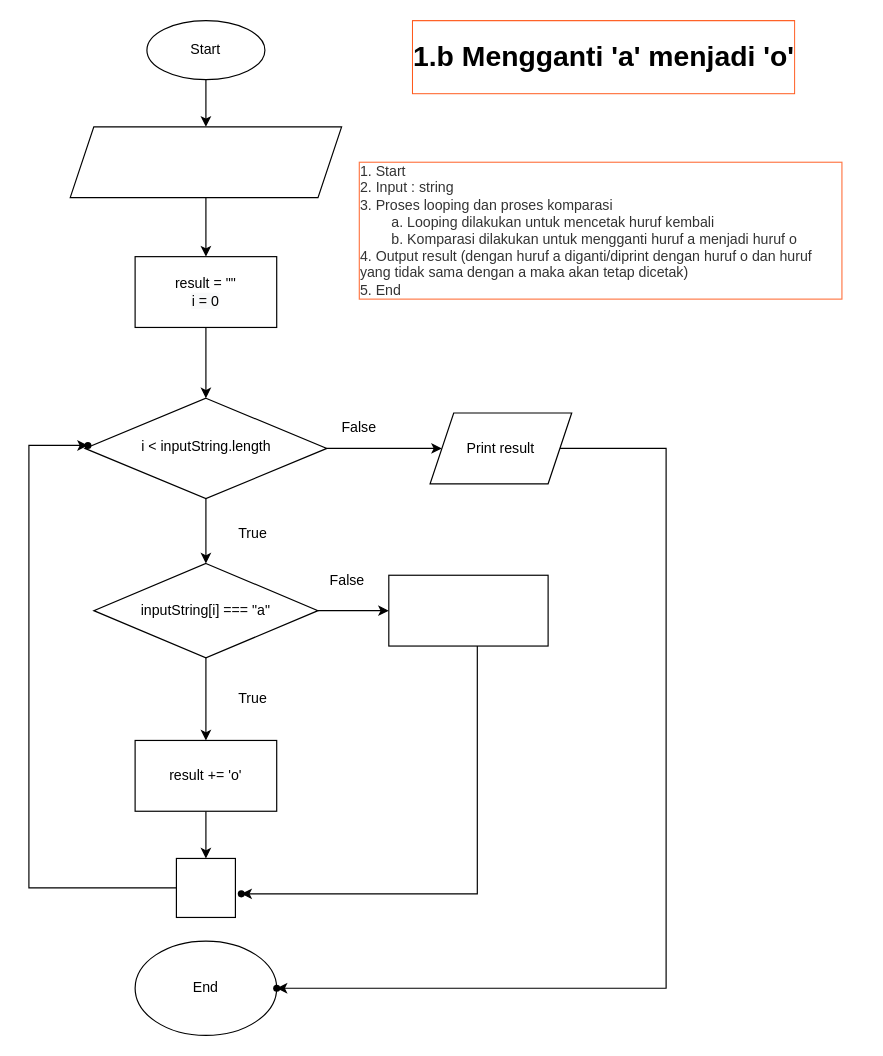
This 883x1056 diagram has some shape labels left out. The shapes that lost their labels are listed below. From the top down, each one's centre as x and y in pixels, then its label:
point (205, 162): inputString: String
point (468, 610): result += inputString[i]
point (205, 887): i++
